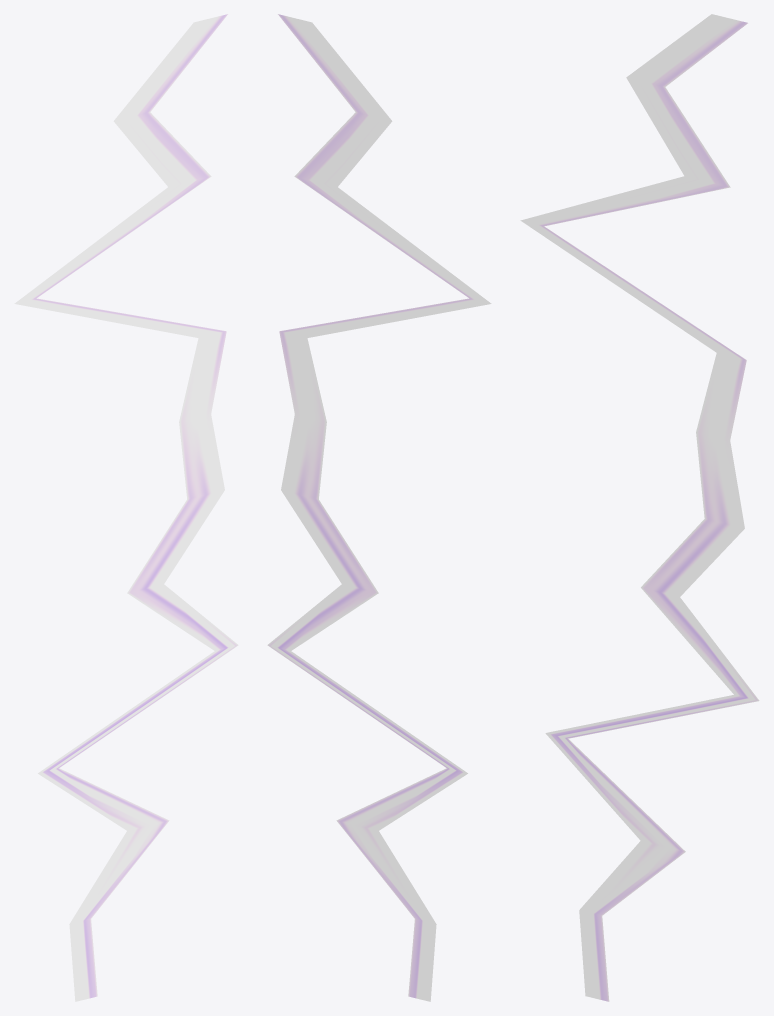
The model's file is effect.glb.
3 renders of one model, left to right at view 1: azimuth 30°, elevation 25°; view 2: azimuth 150°, elevation 25°; view 3: azimuth 330°, elevation 25°, orthographic. The views are drawn at different scales.
Visible parts, largest first — view 1: สายฟ้าฟาด 1 1 phase 1, สายฟ้าฟาด 1 1 phase 0; view 2: สายฟ้าฟาด 1 1 phase 1, สายฟ้าฟาด 1 1 phase 0; view 3: สายฟ้าฟาด 1 1 phase 1, สายฟ้าฟาด 1 1 phase 0.
Part boxes in pixels (x1,y1,x2,y2): สายฟ้าฟาด 1 1 phase 1: [14, 14, 238, 1001]; สายฟ้าฟาด 1 1 phase 0: [14, 14, 237, 1001]; สายฟ้าฟาด 1 1 phase 1: [267, 14, 491, 1001]; สายฟ้าฟาด 1 1 phase 0: [268, 14, 491, 1001]; สายฟ้าฟาด 1 1 phase 1: [520, 14, 759, 1001]; สายฟ้าฟาด 1 1 phase 0: [520, 14, 758, 1001].
Bounding box in the file's own units: 3.71e-06 × 1.5e-05 × 0.
Materials: 8 (8 with a texture image).
